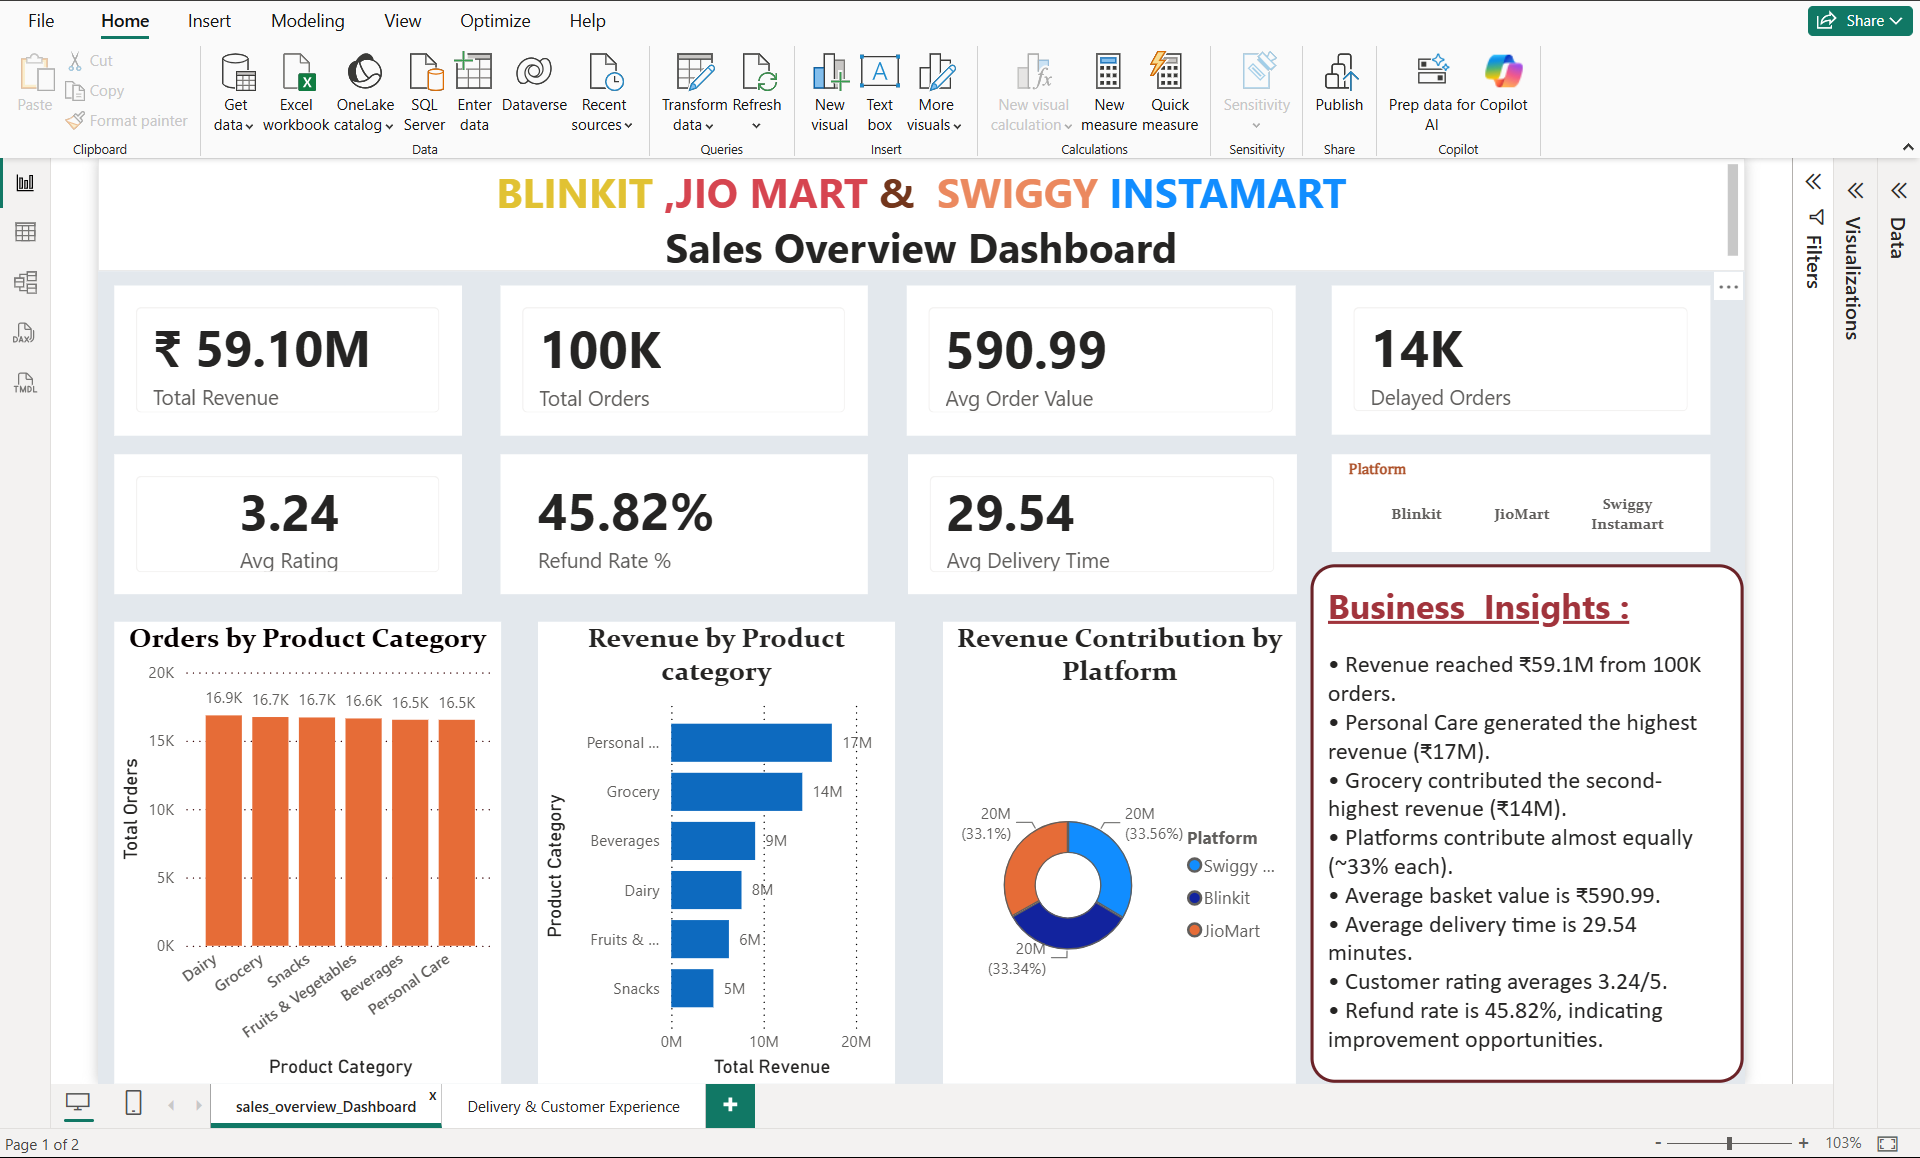

The dashboard page shown, as its layout file describes it:
{"tool":"powerbi","page":{"name":"sales_overview_Dashboard","canvas":[1280,720],"ordinal":0},"visuals":[{"type":"cardVisual","fields":{"Data":["Clean_Data.Total Revenue"]},"box":[12.5,99,270.8,116.6],"z":0},{"type":"cardVisual","fields":{"Data":["Clean_Data.Avg Rating"]},"box":[12.4,230.5,270.6,109.1],"z":1000},{"type":"cardVisual","fields":{"Data":["Clean_Data.Avg Order Value"]},"box":[629.3,99,302.1,116.6],"z":2000},{"type":"cardVisual","fields":{"Data":["Clean_Data.Avg Delivery Time"]},"box":[629.5,230.5,302.3,109.1],"z":3000},{"type":"cardVisual","fields":{"Data":["Clean_Data.Total Orders"]},"box":[313.4,99,285.8,116.6],"z":4000},{"type":"cardVisual","fields":{"Data":["Clean_Data.Refund Rate %"]},"box":[313.4,230.5,285.8,109.1],"z":5000},{"type":"clusteredBarChart","title":"Revenue by Product category","fields":{"Category":["Clean_Data.Product Category"],"Y":["Clean_Data.Total Revenue"]},"box":[342.4,360.3,277.5,358.9],"z":6000},{"type":"donutChart","title":"Revenue Contribution by Platform","fields":{"Category":["Clean_Data.Platform"],"Y":["Clean_Data.Total Revenue"]},"box":[657.1,360.3,274.7,358.9],"z":7000},{"type":"clusteredColumnChart","title":"Orders by Product Category","fields":{"Category":["Clean_Data.Product Category"],"Y":["Clean_Data.Total Orders"]},"box":[12.4,360.3,301,358.9],"z":8000},{"type":"slicer","fields":{"Values":["Clean_Data.Platform"]},"box":[959.5,230.5,294.1,75.9],"z":9000},{"type":"textbox","box":[0,0,1279.8,87.7],"z":10000},{"type":"textbox","box":[942.9,316.1,336.8,403.1],"z":11000},{"type":"cardVisual","fields":{"Data":["Clean_Data.Delayed Orders"]},"box":[959.5,99.4,294.1,116],"z":12000}]}

Visuals, with their boxes on the page's 1280x720 design canvas (x1, y1, x2, y2). These are canvas units, not pixel positions in the 1920x1158 screenshot, which may show the page scaled, cropped or inside an application window:
cardVisual - Clean_Data.Total Revenue: (12,99,283,216)
cardVisual - Clean_Data.Avg Rating: (12,230,283,340)
cardVisual - Clean_Data.Avg Order Value: (629,99,931,216)
cardVisual - Clean_Data.Avg Delivery Time: (630,230,932,340)
cardVisual - Clean_Data.Total Orders: (313,99,599,216)
cardVisual - Clean_Data.Refund Rate %: (313,230,599,340)
"Revenue by Product category" clusteredBarChart: (342,360,620,719)
"Revenue Contribution by Platform" donutChart: (657,360,932,719)
"Orders by Product Category" clusteredColumnChart: (12,360,313,719)
slicer - Clean_Data.Platform: (960,230,1254,306)
textbox: (0,0,1280,88)
textbox: (943,316,1280,719)
cardVisual - Clean_Data.Delayed Orders: (960,99,1254,215)
